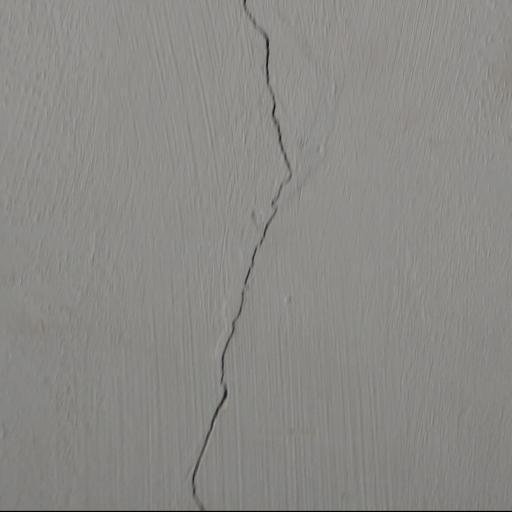minor_crack: (189, 0, 294, 512)
